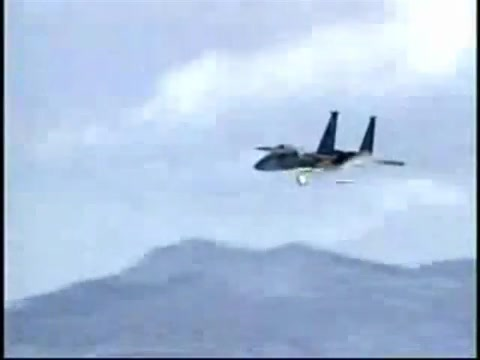aeroplane: (253, 110, 407, 176)
